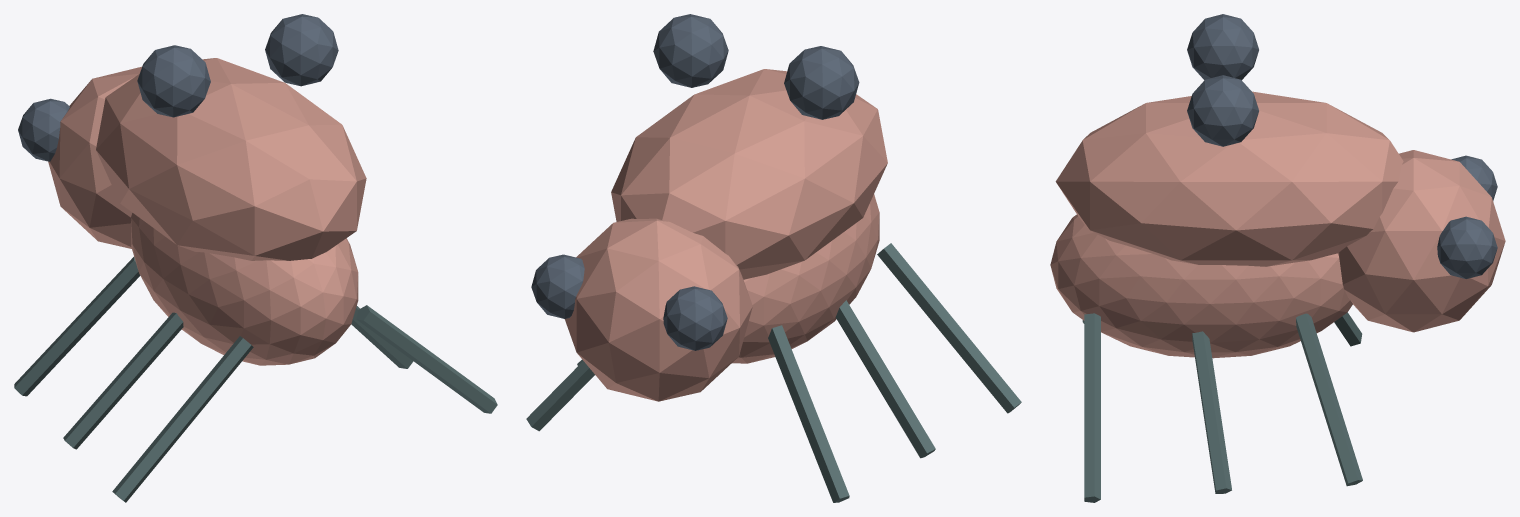
Rendered from ladybird.glb.
The picture shows the model from 3 angles, left to right: view 1: azimuth 30°, elevation 25°; view 2: azimuth 150°, elevation 25°; view 3: azimuth 270°, elevation 25°; orthographic projection. The views are drawn at different scales.
Visible parts, largest first — view 1: WingCase, Body, Head, Spot_-1, Spot_1, Leg_-1_2, Leg_-1_0, Leg_-1_1, Leg_1_2, Eye_-1, Leg_1_1; view 2: WingCase, Head, Body, Spot_-1, Spot_1, Leg_-1_2, Leg_-1_0, Eye_-1, Leg_-1_1, Eye_1, Leg_1_0; view 3: WingCase, Body, Head, Spot_1, Spot_-1, Leg_1_2, Leg_1_0, Eye_1, Leg_1_1, Eye_-1, Leg_-1_0.
Part boxes in pixels (x1=…): WingCase: x1=96, y1=58, x2=366, y2=260; Body: x1=131, y1=213, x2=358, y2=365; Head: x1=48, y1=66, x2=141, y2=248; Spot_-1: x1=137, y1=45, x2=210, y2=117; Spot_1: x1=265, y1=14, x2=338, y2=86; Leg_-1_2: x1=112, y1=336, x2=253, y2=502; Leg_-1_0: x1=14, y1=257, x2=140, y2=396; Leg_-1_1: x1=63, y1=312, x2=183, y2=449; Leg_1_2: x1=356, y1=305, x2=497, y2=413; Eye_-1: x1=18, y1=98, x2=69, y2=161; Leg_1_1: x1=351, y1=306, x2=413, y2=368; WingCase: x1=611, y1=69, x2=887, y2=279; Head: x1=564, y1=218, x2=752, y2=401; Body: x1=732, y1=194, x2=879, y2=363; Spot_-1: x1=784, y1=46, x2=859, y2=119; Spot_1: x1=653, y1=14, x2=728, y2=87; Leg_-1_2: x1=877, y1=243, x2=1021, y2=413; Leg_-1_0: x1=768, y1=325, x2=849, y2=502; Eye_-1: x1=663, y1=286, x2=727, y2=350; Leg_-1_1: x1=835, y1=300, x2=935, y2=458; Eye_1: x1=531, y1=254, x2=584, y2=318; Leg_1_0: x1=526, y1=361, x2=594, y2=431; WingCase: x1=1055, y1=91, x2=1403, y2=266; Body: x1=1050, y1=214, x2=1352, y2=358; Head: x1=1338, y1=150, x2=1505, y2=332; Spot_1: x1=1187, y1=75, x2=1258, y2=146; Spot_-1: x1=1187, y1=14, x2=1258, y2=79; Leg_1_2: x1=1084, y1=313, x2=1100, y2=502; Leg_1_0: x1=1296, y1=313, x2=1362, y2=486; Eye_1: x1=1437, y1=216, x2=1497, y2=278; Leg_1_1: x1=1192, y1=331, x2=1231, y2=493; Eye_-1: x1=1451, y1=155, x2=1497, y2=200; Leg_-1_0: x1=1334, y1=312, x2=1362, y2=346.
Bounding box in the file's own units: 0.6582 × 0.6197 × 0.693.
